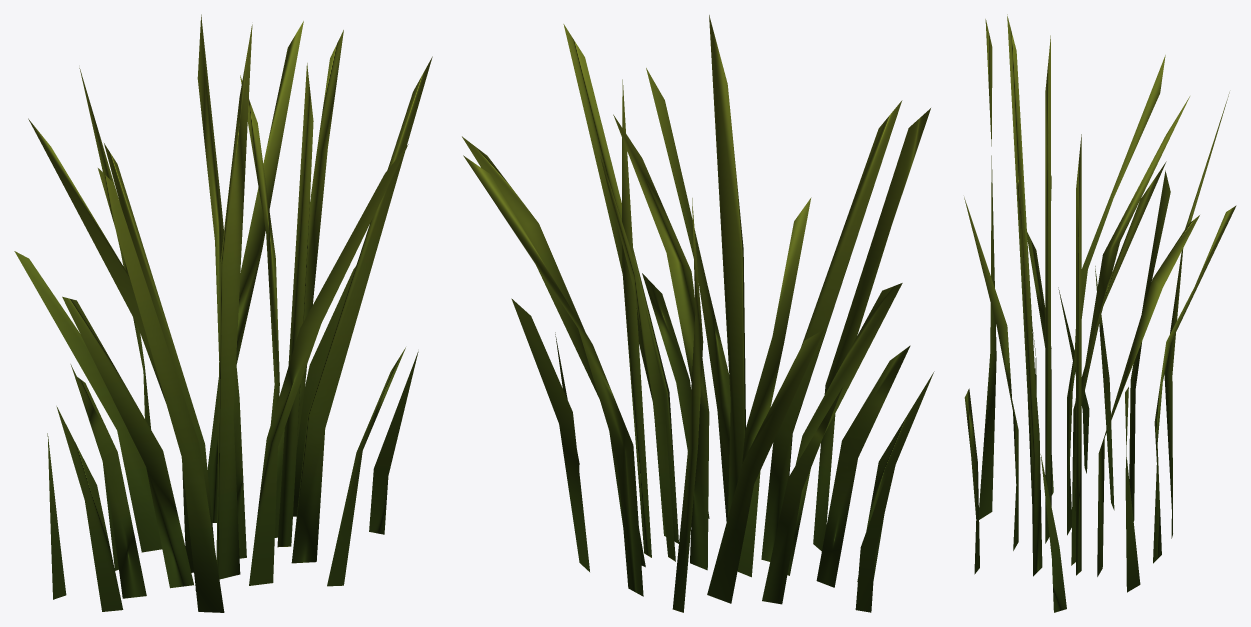
Rendered from decor-marais-roseaux-0.glb.
3 renders of one model, left to right at view 1: azimuth 30°, elevation 25°; view 2: azimuth 150°, elevation 25°; view 3: azimuth 270°, elevation 25°, orthographic. The views are drawn at different scales.
Parts seen in each view (by area): view 1: decor:marais:roseaux:0; view 2: decor:marais:roseaux:0; view 3: decor:marais:roseaux:0.
Boxes of the visible parts, left/top/right/bottom form: decor:marais:roseaux:0: left=14, top=14, right=432, bottom=612; decor:marais:roseaux:0: left=462, top=15, right=934, bottom=612; decor:marais:roseaux:0: left=964, top=14, right=1236, bottom=612.
Bounding box in the file's own units: 0.8781 × 1.2 × 0.5752.
1 material, 1 textured.
